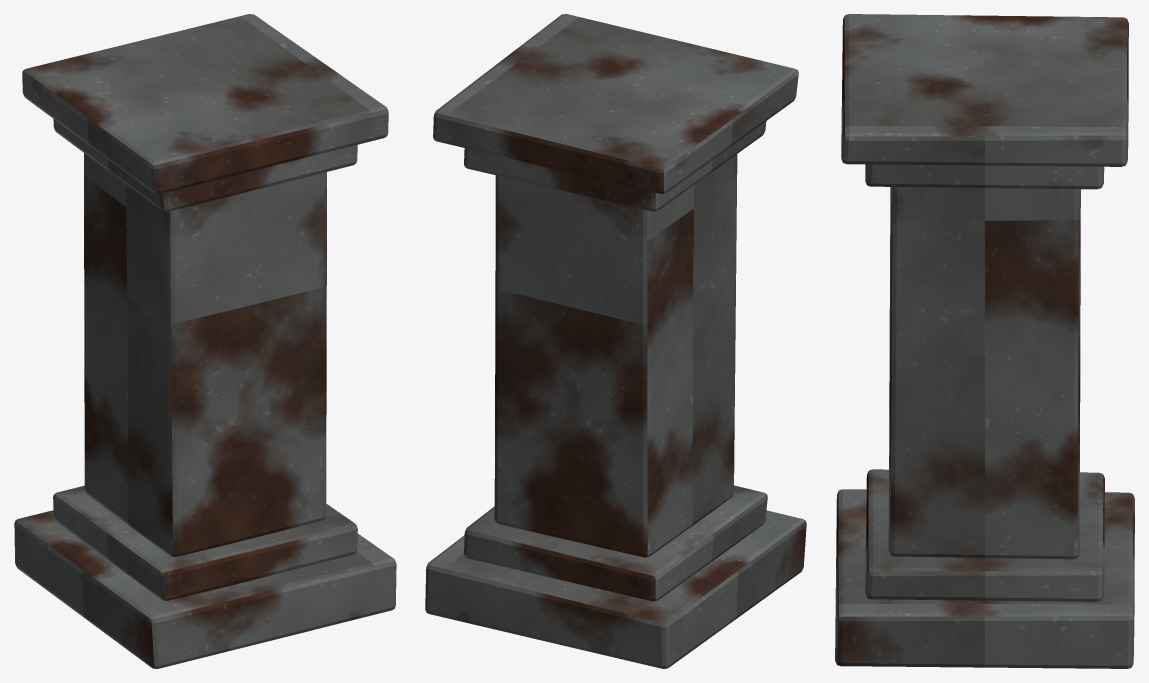
Rendered from P04_stone_pedestal_v2.glb.
3 views of the same model, side by side, from view 1: azimuth 30°, elevation 25°; view 2: azimuth 150°, elevation 25°; view 3: azimuth 270°, elevation 25° (orthographic). The views are drawn at different scales.
Visible parts, largest first — view 1: P04_stone_pedestal_v2; view 2: P04_stone_pedestal_v2; view 3: P04_stone_pedestal_v2.
Part boxes in pixels (x1=…): P04_stone_pedestal_v2: x1=14, y1=14, x2=396, y2=668; P04_stone_pedestal_v2: x1=425, y1=14, x2=806, y2=668; P04_stone_pedestal_v2: x1=835, y1=14, x2=1134, y2=668.
Size of the model in its own units: 0.5135 by 1 by 0.5082.
1 material, 1 textured.
